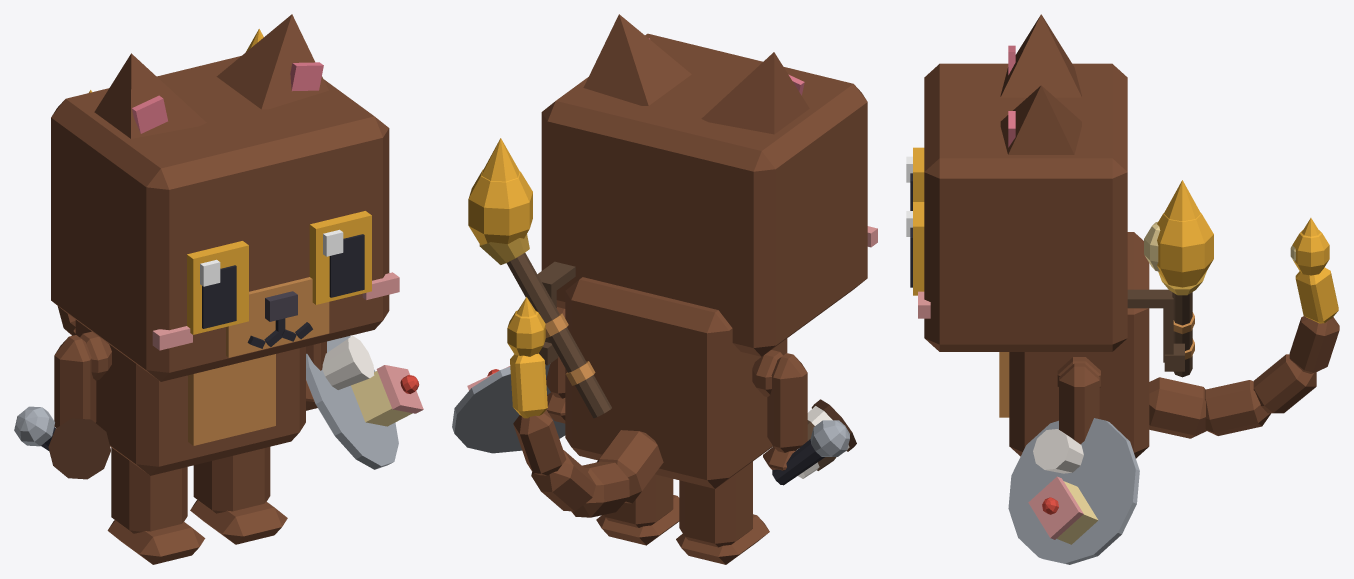
Rendered from CatCafe_Cat_Torch_Work.glb.
3 views of the same model, side by side, from view 1: azimuth 30°, elevation 25°; view 2: azimuth 150°, elevation 25°; view 3: azimuth 270°, elevation 25° (orthographic). The views are drawn at different scales.
Visible parts, largest first — view 1: CatCafe_Cat_Torch_Work_Head, CatCafe_Cat_Torch_Work_Body, CatCafe_Cat_Torch_Work_Held_Waiter, CatCafe_Cat_Torch_Work_LegB2, CatCafe_Cat_Torch_Work_LegB1, CatCafe_Cat_Torch_Work_EarL, CatCafe_Cat_Torch_Work_Eye1, CatCafe_Cat_Torch_Work_Eye2, CatCafe_Cat_Torch_Work_EarR, CatCafe_Cat_Torch_Work_LegF2, CatCafe_Cat_Torch_Work_Held_Barista, CatCafe_Cat_Torch_Work_Held_Entertainer (+1 smaller); view 2: CatCafe_Cat_Torch_Work_Head, CatCafe_Cat_Torch_Work_Body, CatCafe_Cat_Torch_Work_Tail, CatCafe_Cat_Torch_Work_LegB2, CatCafe_Cat_Torch_Work_Prop, CatCafe_Cat_Torch_Work_EarL, CatCafe_Cat_Torch_Work_Flame, CatCafe_Cat_Torch_Work_EarR, CatCafe_Cat_Torch_Work_Held_Waiter, CatCafe_Cat_Torch_Work_LegF2, CatCafe_Cat_Torch_Work_LegB1, CatCafe_Cat_Torch_Work_Held_Entertainer (+3 smaller); view 3: CatCafe_Cat_Torch_Work_Head, CatCafe_Cat_Torch_Work_Held_Waiter, CatCafe_Cat_Torch_Work_Body, CatCafe_Cat_Torch_Work_Tail, CatCafe_Cat_Torch_Work_Flame, CatCafe_Cat_Torch_Work_EarR, CatCafe_Cat_Torch_Work_EarL, CatCafe_Cat_Torch_Work_Prop, CatCafe_Cat_Torch_Work_LegF1, CatCafe_Cat_Torch_Work_Tail_Flame, CatCafe_Cat_Torch_Work_Eye1, CatCafe_Cat_Torch_Work_Eye2.
Boxes of the visible parts, <box> form: CatCafe_Cat_Torch_Work_Head: <box>51,56,399,381</box>; CatCafe_Cat_Torch_Work_Body: <box>75,320,305,475</box>; CatCafe_Cat_Torch_Work_Held_Waiter: <box>306,335,423,469</box>; CatCafe_Cat_Torch_Work_LegB2: <box>107,447,205,564</box>; CatCafe_Cat_Torch_Work_LegB1: <box>190,447,287,544</box>; CatCafe_Cat_Torch_Work_EarL: <box>216,14,328,109</box>; CatCafe_Cat_Torch_Work_Eye1: <box>309,211,371,304</box>; CatCafe_Cat_Torch_Work_Eye2: <box>187,241,248,334</box>; CatCafe_Cat_Torch_Work_EarR: <box>94,53,206,138</box>; CatCafe_Cat_Torch_Work_LegF2: <box>54,335,96,427</box>; CatCafe_Cat_Torch_Work_Held_Barista: <box>48,418,110,479</box>; CatCafe_Cat_Torch_Work_Held_Entertainer: <box>14,406,55,450</box>; CatCafe_Cat_Torch_Work_Head: <box>541,33,877,356</box>; CatCafe_Cat_Torch_Work_Body: <box>565,277,787,488</box>; CatCafe_Cat_Torch_Work_Tail: <box>510,353,663,517</box>; CatCafe_Cat_Torch_Work_LegB2: <box>676,461,769,564</box>; CatCafe_Cat_Torch_Work_Prop: <box>479,234,611,418</box>; CatCafe_Cat_Torch_Work_EarL: <box>583,14,691,105</box>; CatCafe_Cat_Torch_Work_Flame: <box>468,138,532,244</box>; CatCafe_Cat_Torch_Work_EarR: <box>701,52,809,134</box>; CatCafe_Cat_Torch_Work_Held_Waiter: <box>452,364,565,453</box>; CatCafe_Cat_Torch_Work_LegF2: <box>763,353,807,470</box>; CatCafe_Cat_Torch_Work_LegB1: <box>596,474,679,545</box>; CatCafe_Cat_Torch_Work_Held_Entertainer: <box>772,420,849,485</box>; CatCafe_Cat_Torch_Work_Head: <box>918,63,1127,351</box>; CatCafe_Cat_Torch_Work_Held_Waiter: <box>1008,418,1139,564</box>; CatCafe_Cat_Torch_Work_Body: <box>999,232,1149,458</box>; CatCafe_Cat_Torch_Work_Tail: <box>1149,267,1339,438</box>; CatCafe_Cat_Torch_Work_Flame: <box>1144,180,1213,287</box>; CatCafe_Cat_Torch_Work_EarR: <box>1000,14,1081,97</box>; CatCafe_Cat_Torch_Work_EarL: <box>1000,85,1081,154</box>; CatCafe_Cat_Torch_Work_Prop: <box>1127,271,1206,377</box>; CatCafe_Cat_Torch_Work_LegF1: <box>1059,363,1099,444</box>; CatCafe_Cat_Torch_Work_Tail_Flame: <box>1290,218,1329,275</box>; CatCafe_Cat_Torch_Work_Eye1: <box>906,202,924,295</box>; CatCafe_Cat_Torch_Work_Eye2: <box>906,147,924,210</box>.
Bounding box in the file's own units: 1.53 × 1.93 × 1.62.
1 material, 1 textured.
